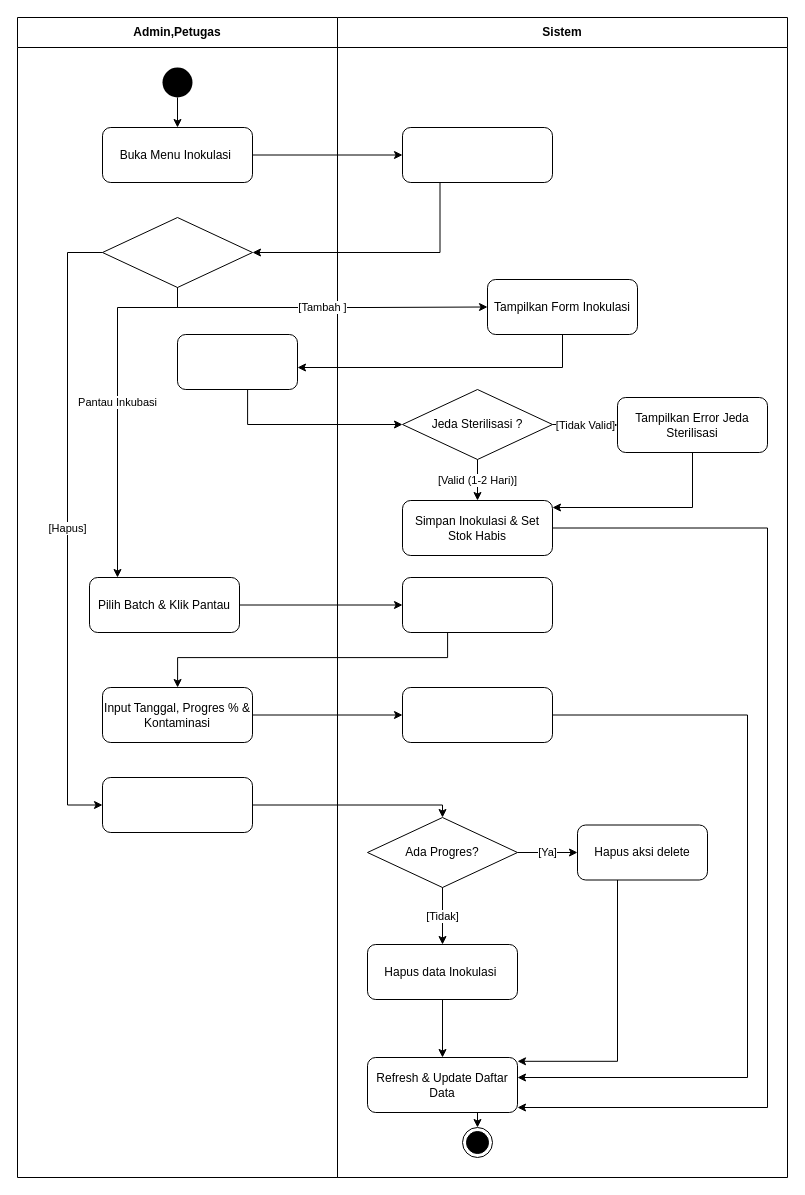
Some shapes in this 805 by 1195 pixel diagram are drawn without their labels. The shapes that lost their labels are listed below. From the top down, each one's centre as x and y in pixels, then its label:
At point 477,154: "Tampilkan Daftar Inokulasi & Log".
At point 177,252: "Pilih Aksi Menu?".
At point 237,362: "Pilih Sterilisasi & Input Tanggal".
At point 477,604: "Tampilkan Form Log Inkubasi".
At point 477,714: "Simpan LogInkubasi & Update Stok".
At point 177,804: "Pilih Data Inokulasi & Klik Hapus".
